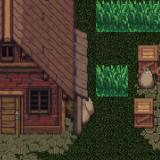Hide: (128, 96, 160, 134)
Obstacle: (0, 0, 95, 160), (128, 32, 160, 96)
Slow: (95, 0, 160, 32), (95, 65, 128, 97)
